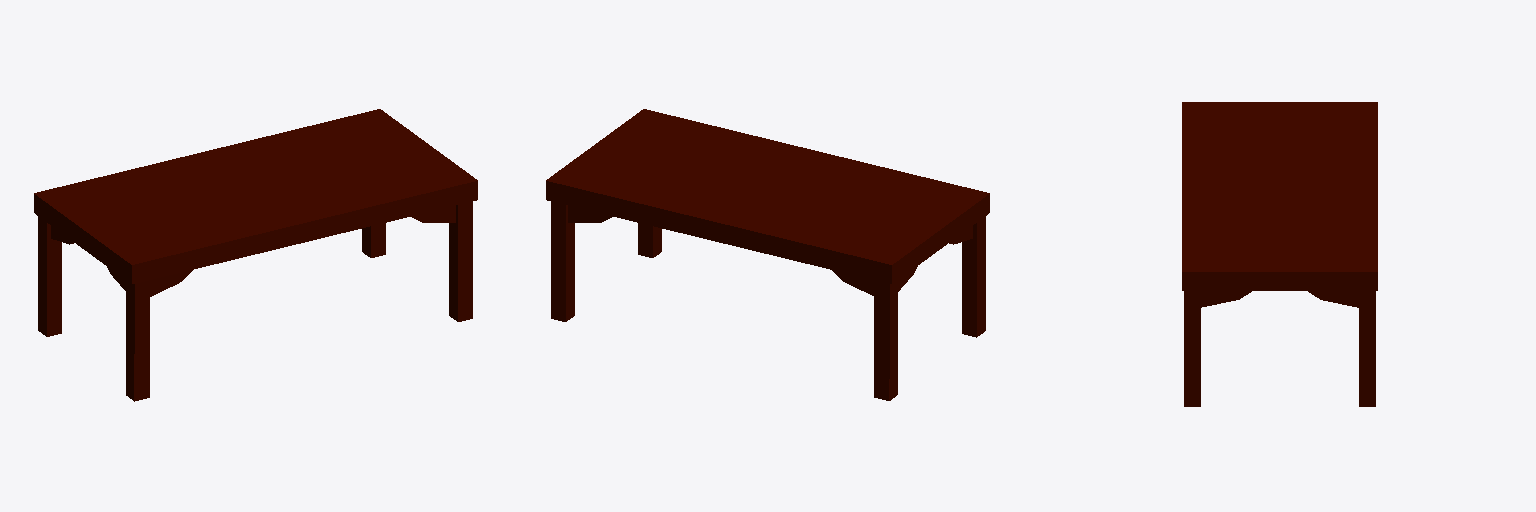
The model's file is table.obj.
3 views of the same model, side by side, from view 1: azimuth 30°, elevation 25°; view 2: azimuth 150°, elevation 25°; view 3: azimuth 270°, elevation 25° (orthographic).
Parts seen in each view (by area): view 1: Cube.002_Cube.007; view 2: Cube.002_Cube.007; view 3: Cube.002_Cube.007.
Part boxes in pixels (x1,y1,x2,y2): Cube.002_Cube.007: (34, 109, 477, 401); Cube.002_Cube.007: (546, 109, 989, 400); Cube.002_Cube.007: (1182, 102, 1377, 406).
Bounding box in the file's own units: 13.69 × 5.21 × 6.72.